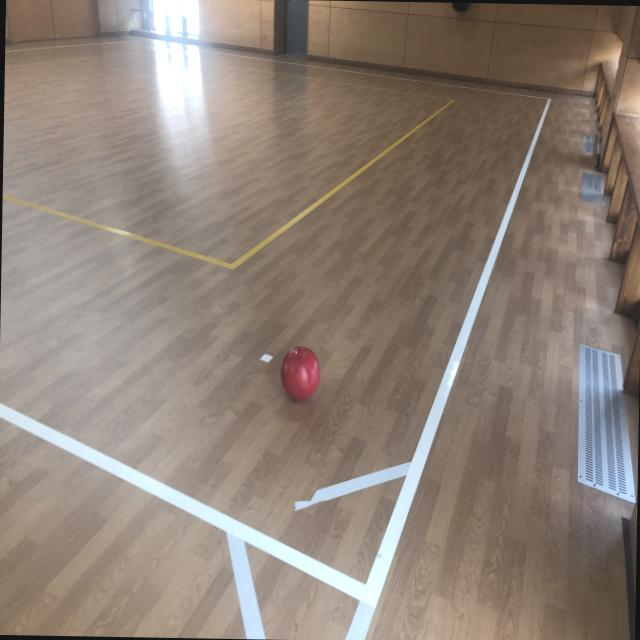red_ball: (280, 344, 320, 400)
